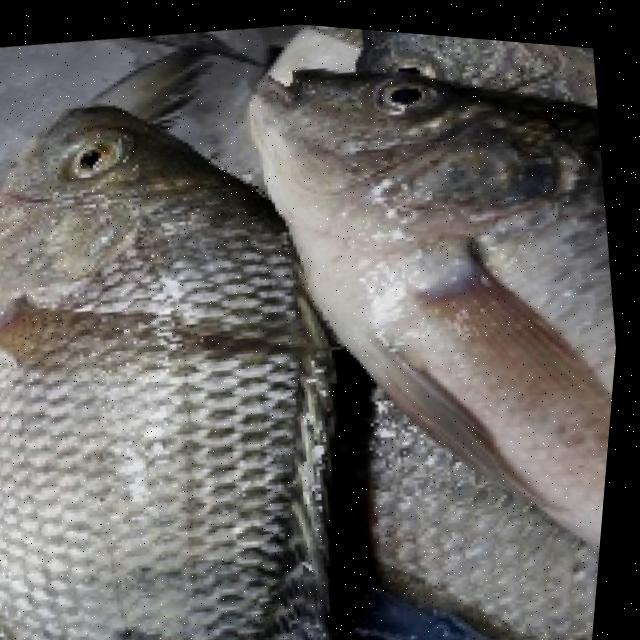Fresh: (0, 180, 336, 591), (296, 97, 635, 483), (57, 114, 135, 202), (370, 56, 444, 123)
